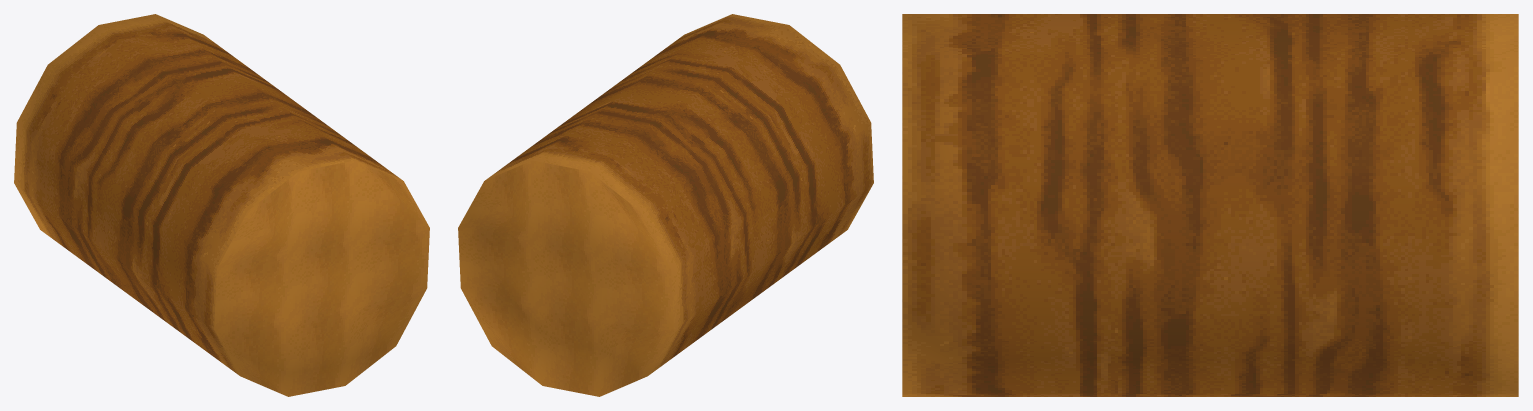
File: SM_AP_Pillar_13m_0.glb
3 views of the same model, side by side, from view 1: azimuth 30°, elevation 25°; view 2: azimuth 150°, elevation 25°; view 3: azimuth 270°, elevation 25° (orthographic). The views are drawn at different scales.
Visible parts, largest first — view 1: SM_AP_Pillar_13m_0; view 2: SM_AP_Pillar_13m_0; view 3: SM_AP_Pillar_13m_0.
Part boxes in pixels (x1,y1,x2,y2): SM_AP_Pillar_13m_0: (14, 14, 429, 396); SM_AP_Pillar_13m_0: (458, 14, 873, 396); SM_AP_Pillar_13m_0: (902, 14, 1518, 396).
Size of the model in its own units: 13.59 by 13.59 by 21.82.
1 material, 1 textured.
